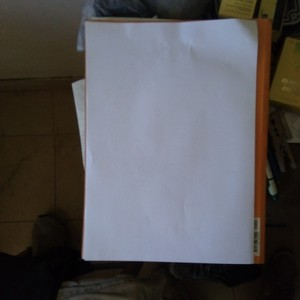base: (86, 23, 252, 262)
